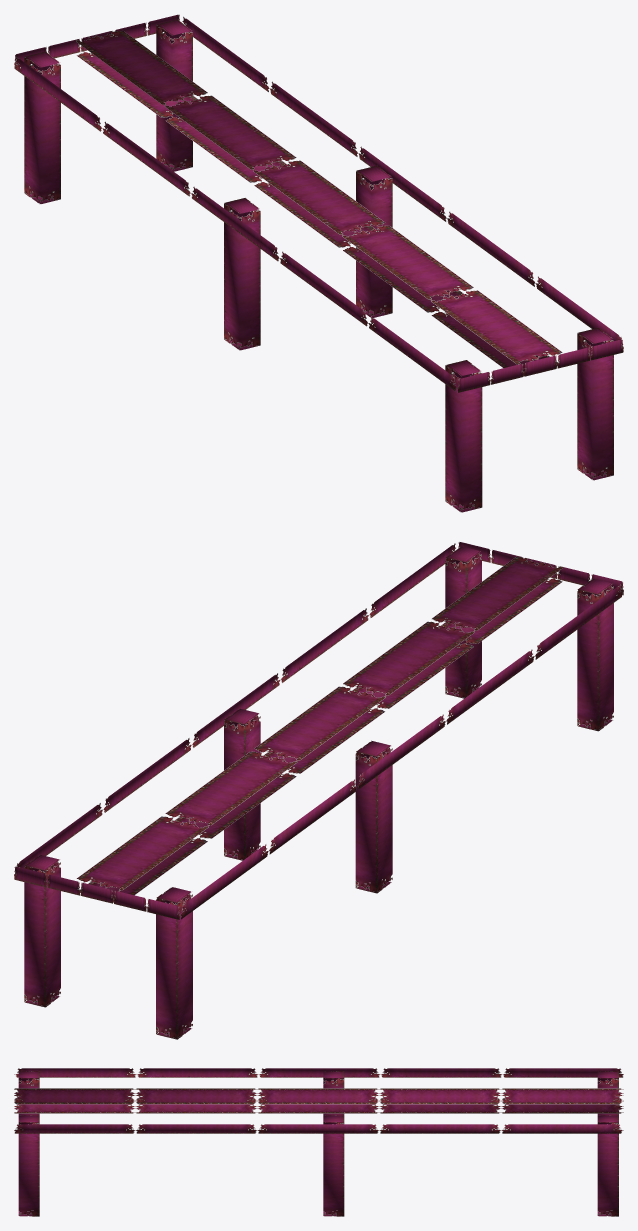
The model's file is table.obj.
3 views of the same model, one above another, from view 1: azimuth 30°, elevation 25°; view 2: azimuth 150°, elevation 25°; view 3: azimuth 270°, elevation 25° (orthographic). The views are drawn at different scales.
Parts seen in each view (by area): view 1: Cube.008_Cube.013; view 2: Cube.008_Cube.013; view 3: Cube.008_Cube.013.
Part boxes in pixels (x1,y1,x2,y2): Cube.008_Cube.013: (14,14,623,512); Cube.008_Cube.013: (14,542,623,1039); Cube.008_Cube.013: (14,1068,623,1216).
Size of the model in its own units: 3.74 by 2.96 by 17.29.
